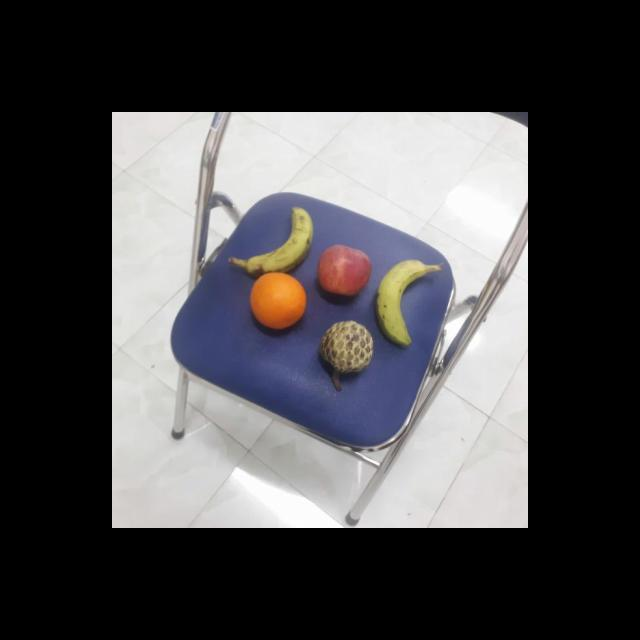Sakya fruit: (319, 320, 376, 375)
apple: (317, 243, 372, 297)
banana: (241, 201, 317, 275), (372, 259, 435, 345)
orange: (247, 270, 306, 331)
